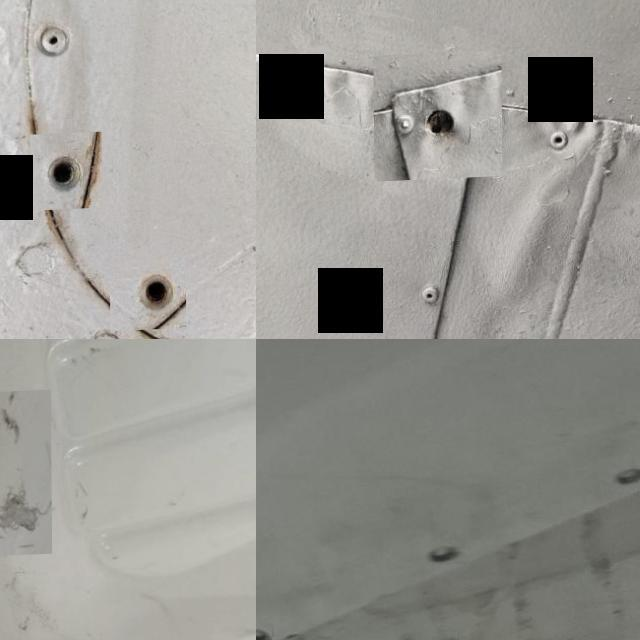Crack: (0, 393, 51, 562)
Missing_Fastener: (373, 54, 502, 184), (110, 258, 186, 334), (30, 134, 102, 213), (423, 547, 460, 573), (256, 624, 271, 640)
